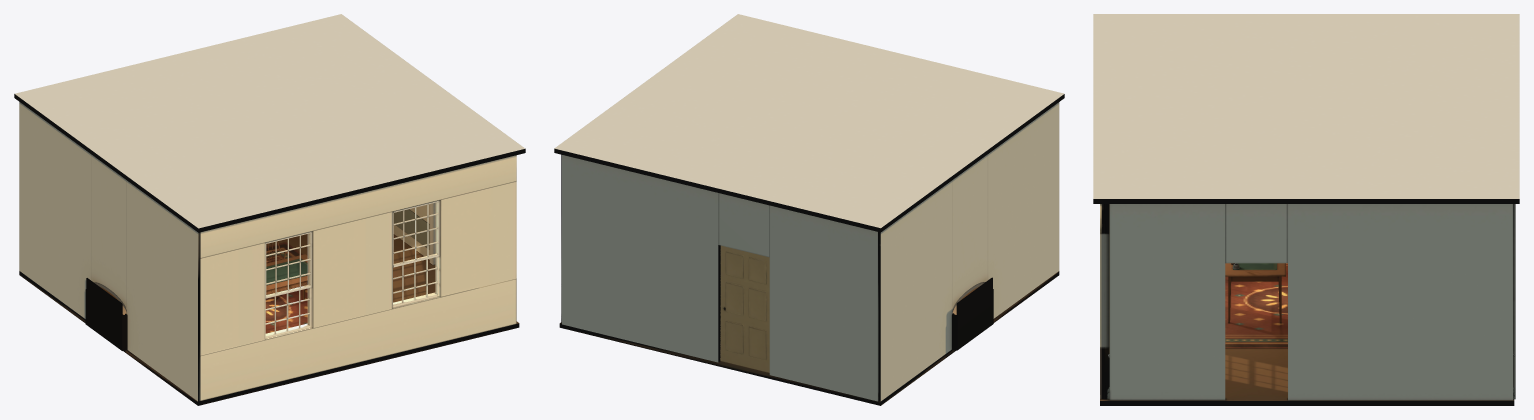
File: interior-light.glb
The picture shows the model from 3 angles, left to right: view 1: azimuth 30°, elevation 25°; view 2: azimuth 150°, elevation 25°; view 3: azimuth 270°, elevation 25°; orthographic projection. The views are drawn at different scales.
Visible parts, largest first — view 1: Library — baked static interior; view 2: Library — baked static interior; view 3: Library — baked static interior.
Part boxes in pixels (x1,y1,x2,y2): Library — baked static interior: [14, 14, 525, 405]; Library — baked static interior: [554, 14, 1064, 405]; Library — baked static interior: [1093, 14, 1519, 405].
Bounding box in the file's own units: 6.41 × 3.35 × 6.2.
Materials: 1 (1 with a texture image).
